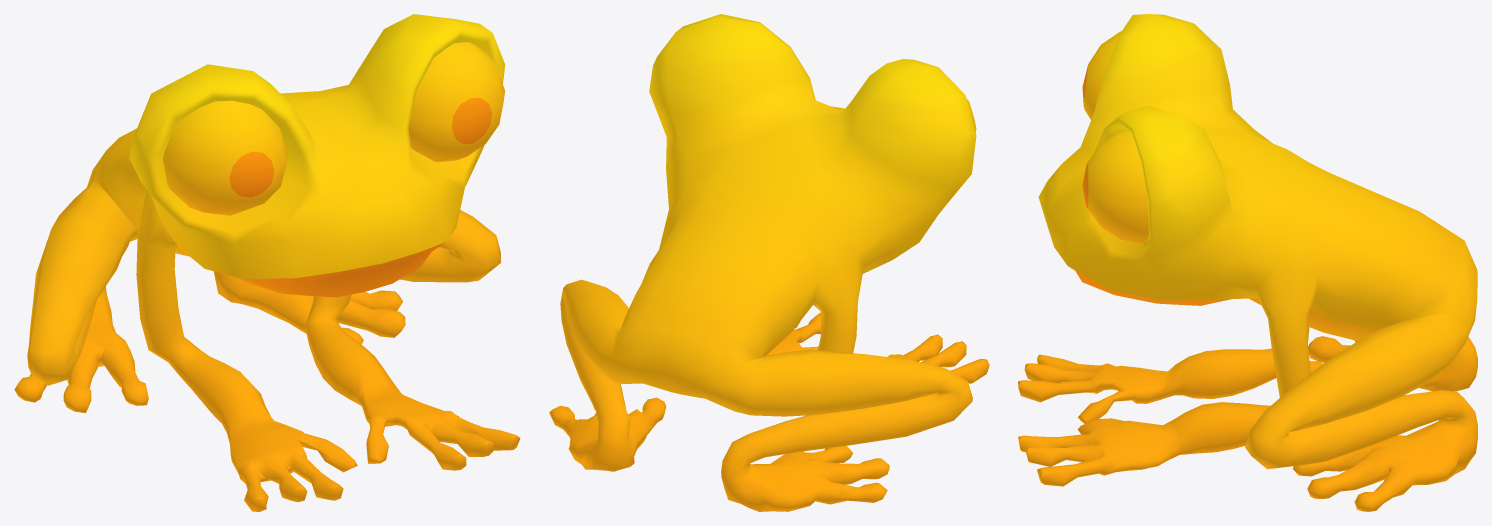
Rendered from Frog_Statue_01.glb.
The picture shows the model from 3 angles, left to right: view 1: azimuth 30°, elevation 25°; view 2: azimuth 150°, elevation 25°; view 3: azimuth 270°, elevation 25°; orthographic projection. The views are drawn at different scales.
Visible parts, largest first — view 1: Frog_Statue_01; view 2: Frog_Statue_01; view 3: Frog_Statue_01.
Part boxes in pixels (box(x1,y1,x2,y2)): Frog_Statue_01: box(14, 14, 520, 511); Frog_Statue_01: box(549, 14, 989, 511); Frog_Statue_01: box(1018, 14, 1477, 511).
Size of the model in its own units: 1.77 by 1.42 by 1.62.
1 material, 1 textured.
